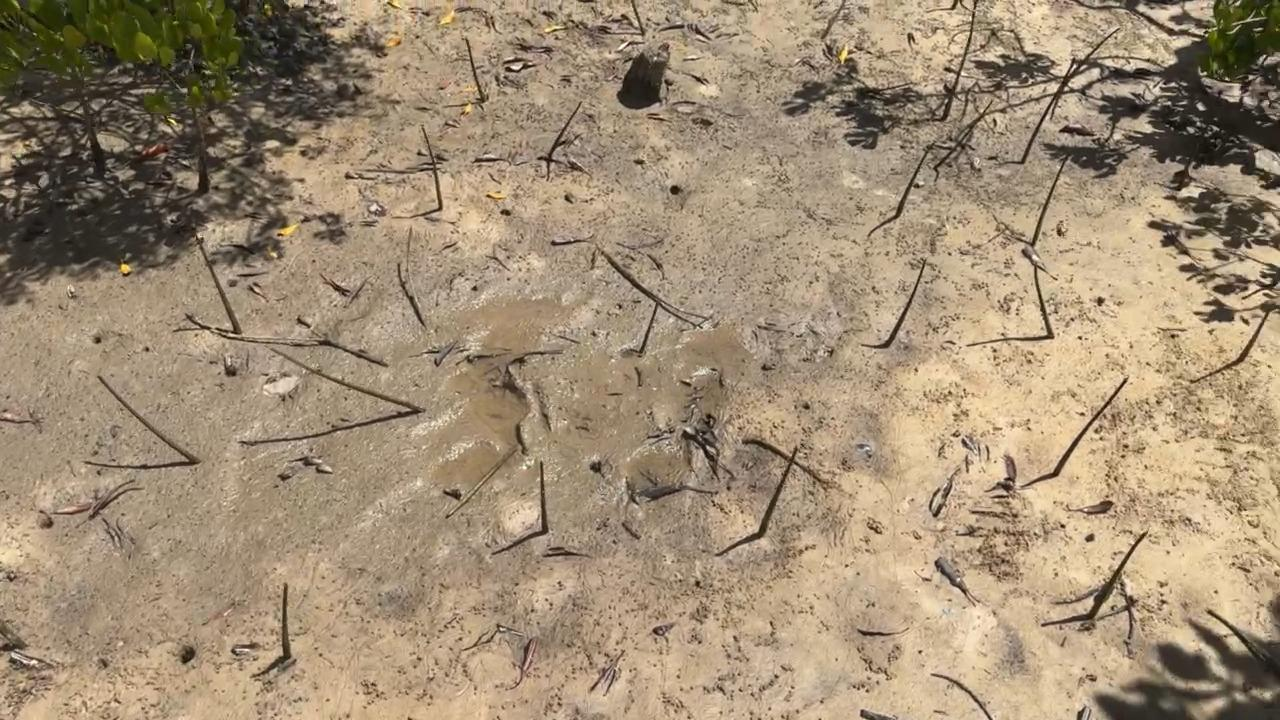Tree: (107, 0, 245, 193), (0, 0, 106, 169), (268, 345, 426, 413), (97, 374, 199, 464), (1052, 376, 1129, 474), (1020, 56, 1076, 163), (1088, 530, 1150, 618), (192, 231, 239, 334), (933, 99, 994, 169), (759, 444, 799, 535), (886, 258, 927, 344), (1063, 28, 1119, 82), (1031, 161, 1066, 247), (895, 142, 935, 214), (950, 0, 978, 93), (406, 226, 428, 328), (1237, 305, 1274, 362), (420, 126, 444, 210), (548, 100, 583, 156), (1033, 262, 1055, 338), (463, 37, 487, 101), (638, 299, 660, 354), (821, 0, 846, 40), (539, 461, 549, 533), (280, 581, 289, 659), (631, 0, 645, 37), (951, 0, 958, 10)
